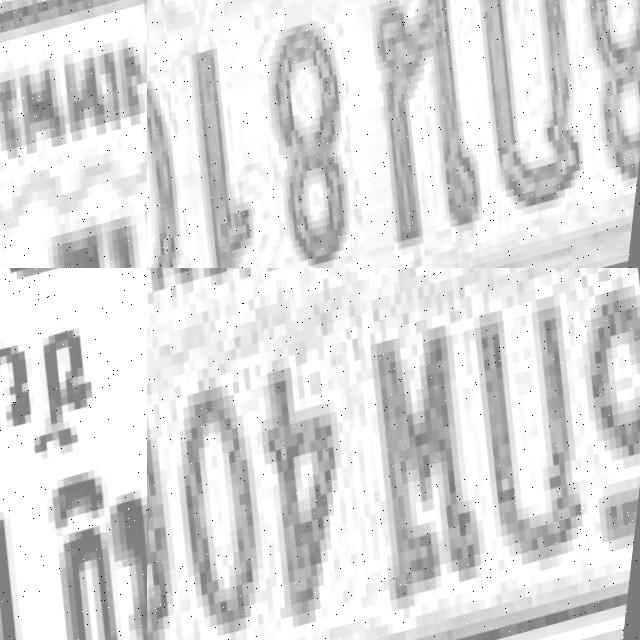license-plate: (147, 268, 640, 640), (147, 0, 640, 268), (0, 268, 147, 640), (0, 0, 147, 268)
